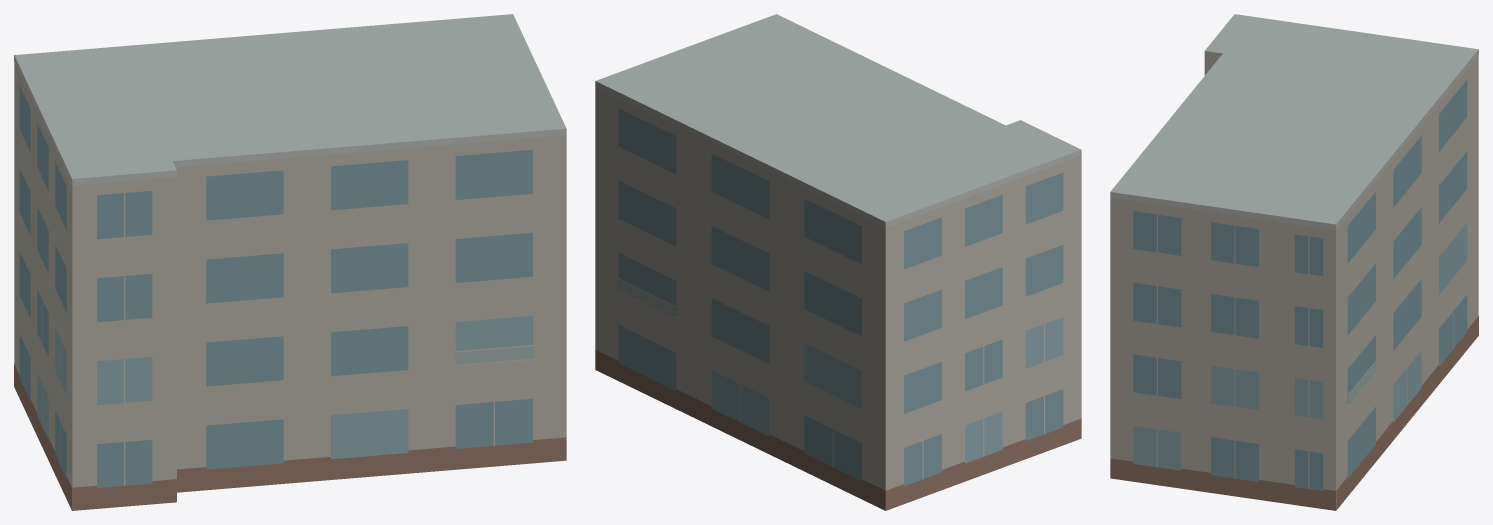
Rendered from survey-upis-32519520.glb.
The picture shows the model from 3 angles, left to right: view 1: azimuth 30°, elevation 25°; view 2: azimuth 150°, elevation 25°; view 3: azimuth 270°, elevation 25°; orthographic projection. The views are drawn at different scales.
Visible parts, largest first — view 1: survey-upis-32519520.tmp; view 2: survey-upis-32519520.tmp; view 3: survey-upis-32519520.tmp.
Boxes of the visible parts, x1,y1,x2,y2 form: survey-upis-32519520.tmp: (14, 14, 566, 510); survey-upis-32519520.tmp: (595, 14, 1081, 510); survey-upis-32519520.tmp: (1110, 14, 1478, 510).
Bounding box in the file's own units: 19.55 × 12.4 × 14.47.
